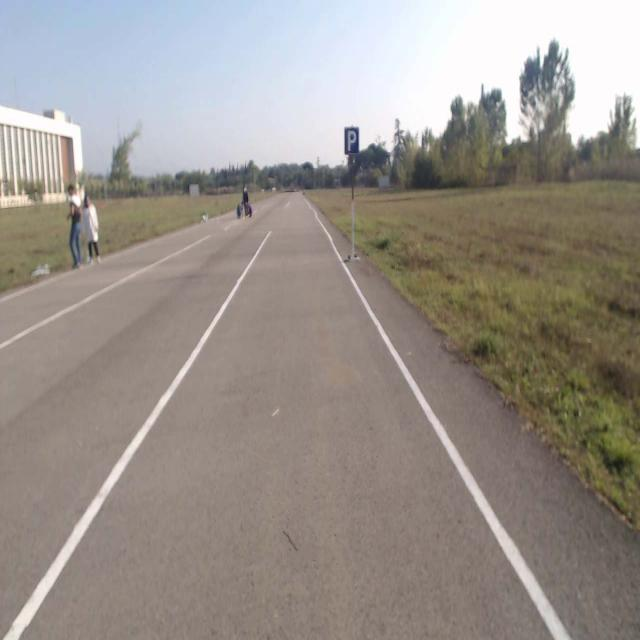park: (344, 127, 358, 153)
